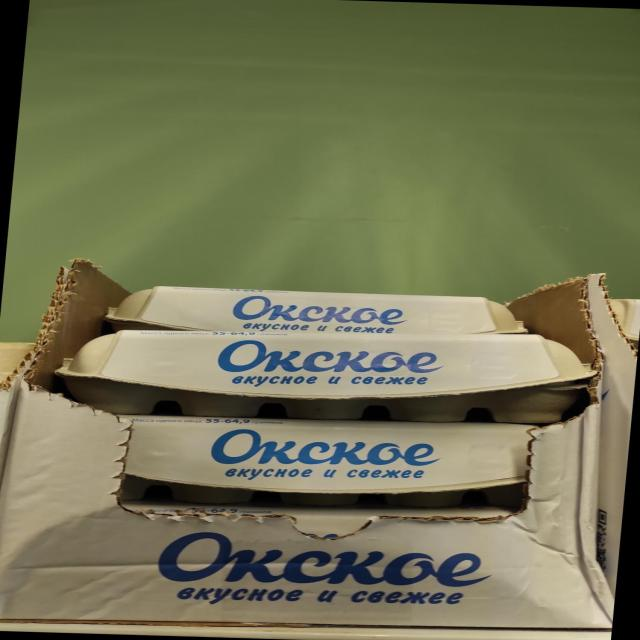organic waste: (44, 325, 600, 429), (118, 414, 534, 513), (103, 284, 533, 340)
